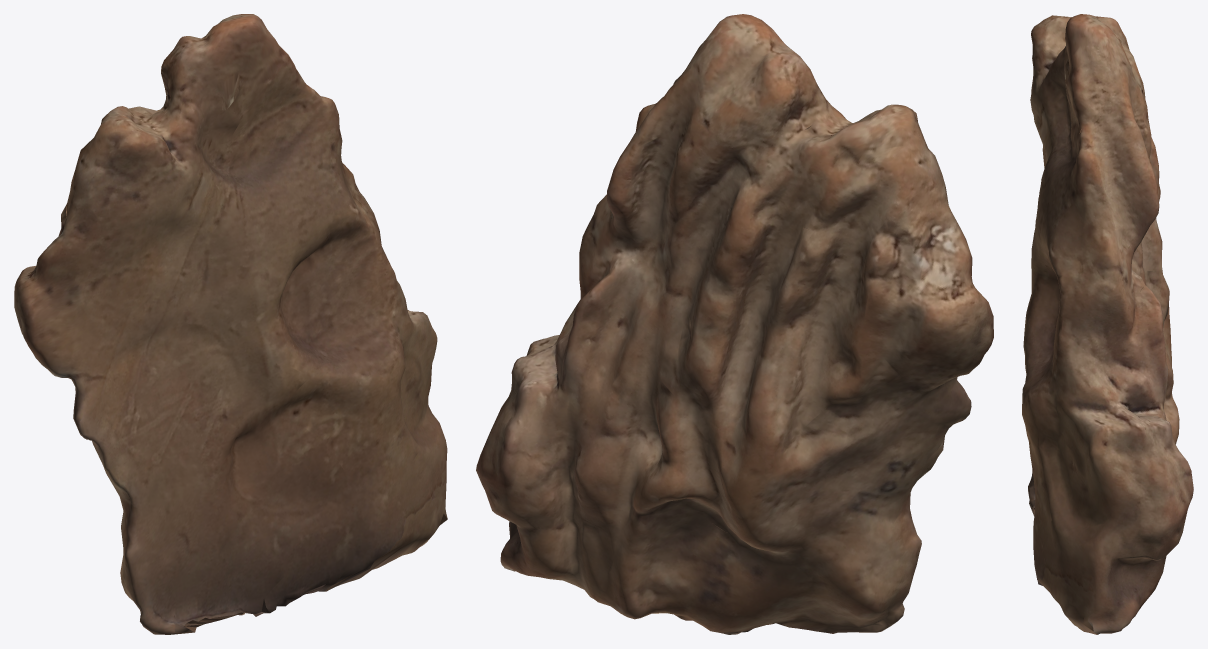
The model's file is Kapaki1.fbx.
The picture shows the model from 3 angles, left to right: view 1: azimuth 30°, elevation 25°; view 2: azimuth 150°, elevation 25°; view 3: azimuth 270°, elevation 25°; orthographic projection. The views are drawn at different scales.
Parts seen in each view (by area): view 1: Kapaki1-M02-video; view 2: Kapaki1-M02-video; view 3: Kapaki1-M02-video.
Boxes of the visible parts, box(x1,y1,x2,y2) form: Kapaki1-M02-video: box(14, 14, 447, 634); Kapaki1-M02-video: box(476, 14, 993, 634); Kapaki1-M02-video: box(1022, 14, 1193, 634).
Size of the model in its own units: 6.59 by 2.4 by 8.43.
1 material, 1 textured.
